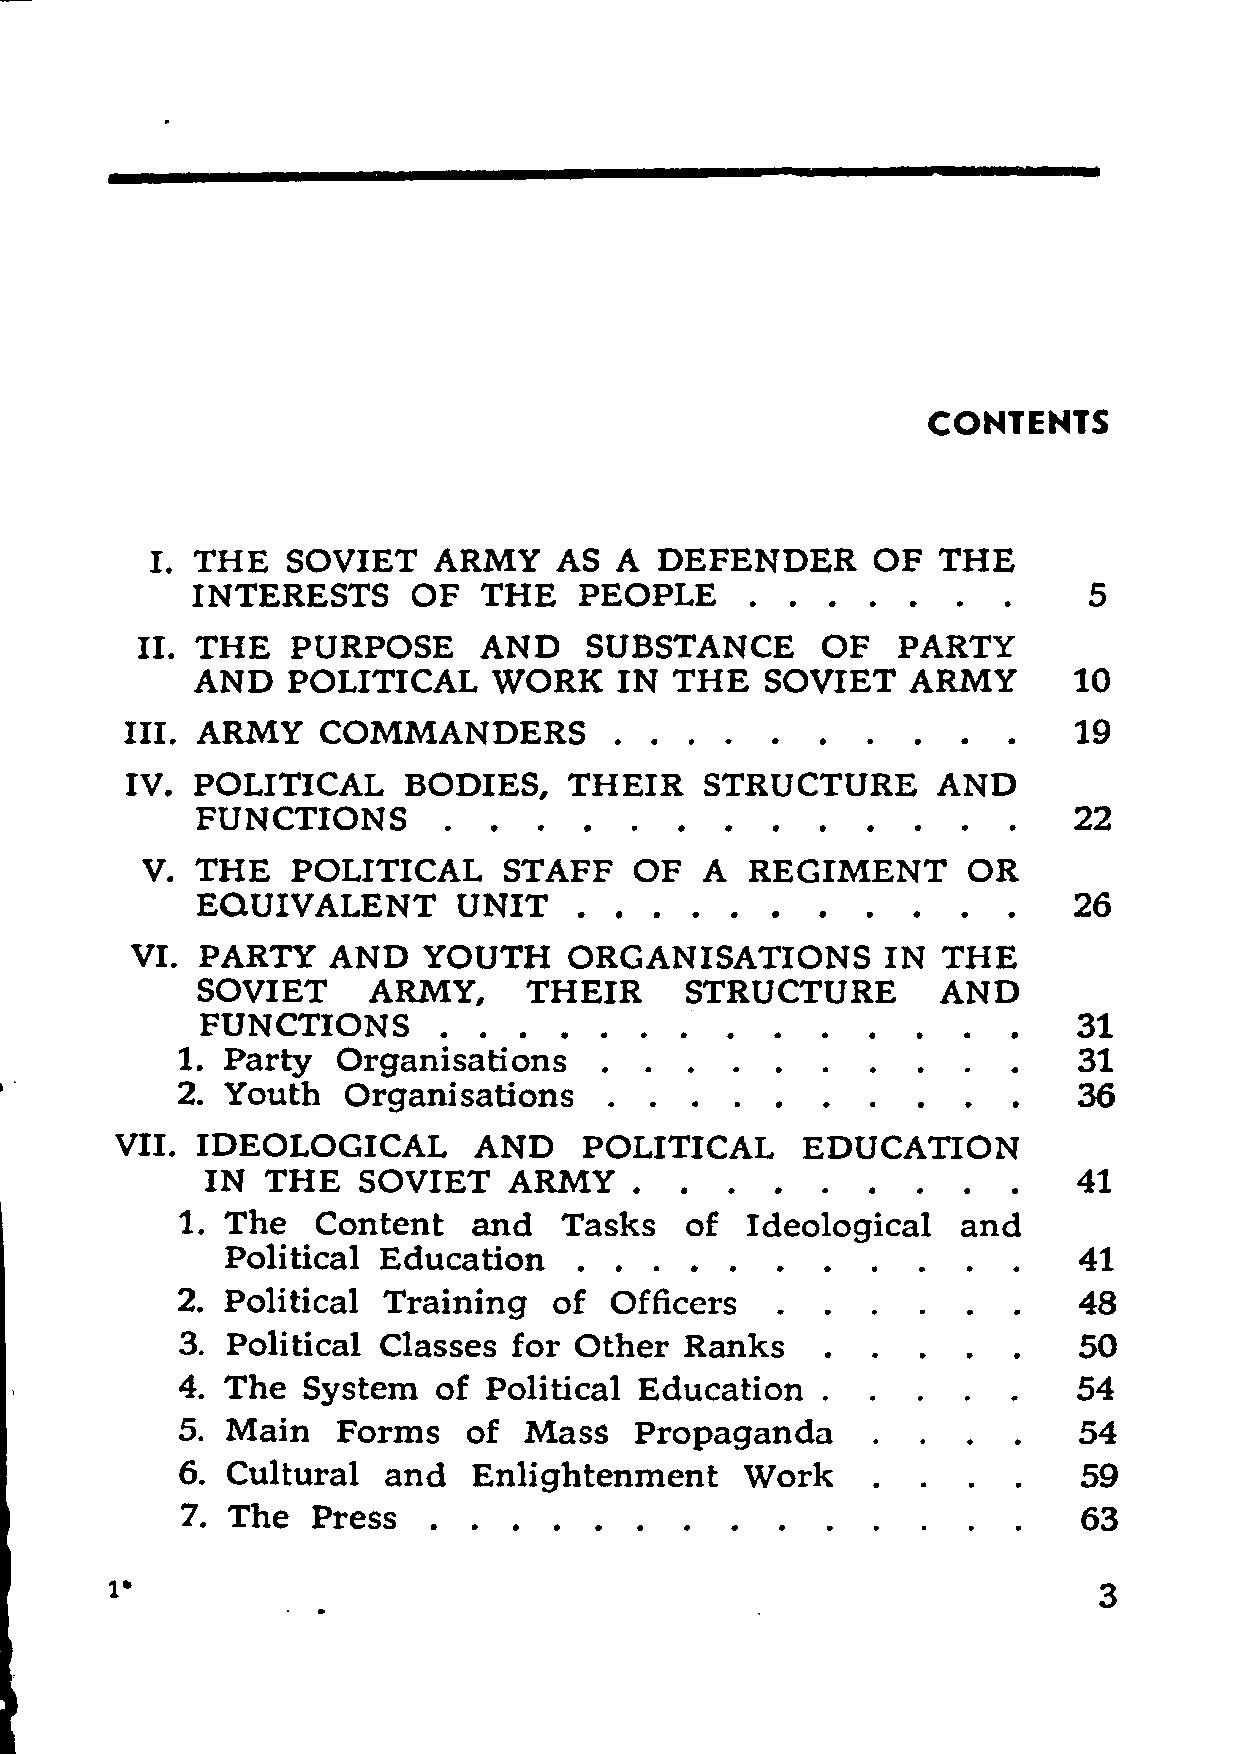TOC_chapter: (126, 939, 1027, 1111), (107, 1125, 1023, 1198), (176, 1206, 1027, 1278), (140, 852, 1021, 921), (144, 541, 1016, 608), (122, 768, 1019, 832), (134, 632, 1019, 694), (174, 1370, 811, 1409), (174, 1453, 833, 1490), (174, 1326, 788, 1363), (172, 1414, 837, 1447), (170, 1286, 745, 1321), (121, 717, 589, 746), (173, 1499, 403, 1534)
TOC_pagenumber: (1070, 798, 1115, 833), (1078, 1456, 1121, 1491), (1074, 1159, 1113, 1194), (1079, 1500, 1121, 1533), (1078, 1239, 1115, 1274), (1070, 888, 1110, 919), (1071, 715, 1113, 745), (1074, 1372, 1115, 1401), (1075, 1331, 1118, 1359), (1078, 1414, 1117, 1445), (1074, 1082, 1118, 1108), (1076, 1287, 1117, 1317), (1076, 1043, 1111, 1076), (1074, 666, 1113, 694), (1076, 1009, 1111, 1039), (1082, 578, 1113, 608)
chapter: (925, 404, 1110, 437)
